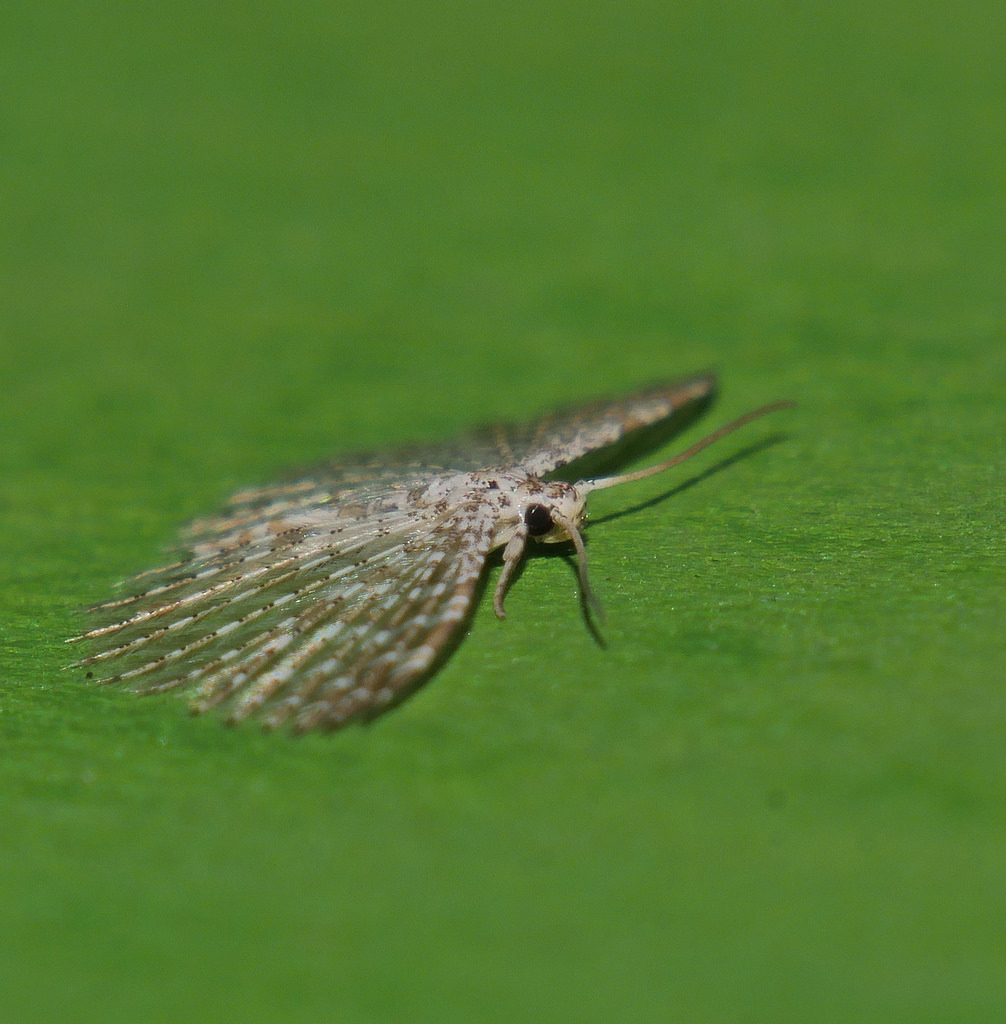Alucitidae: (47, 350, 808, 737)
moth: (45, 348, 806, 735)
